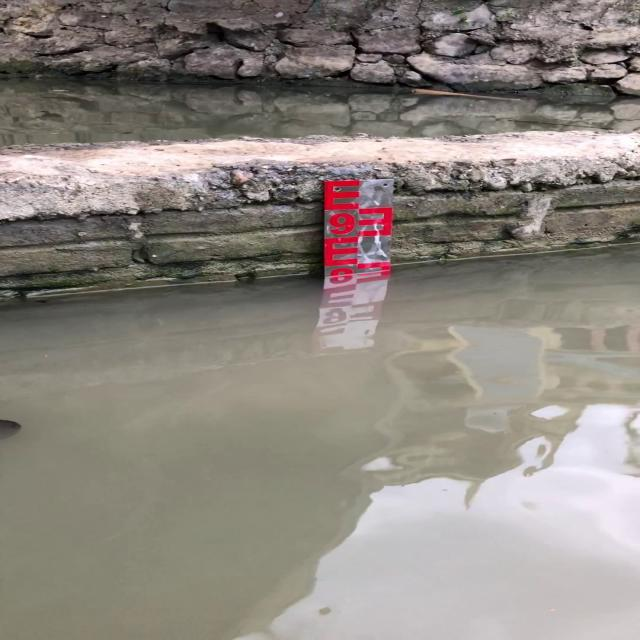ruler: (318, 170, 400, 281)
value: (325, 207, 361, 240)
